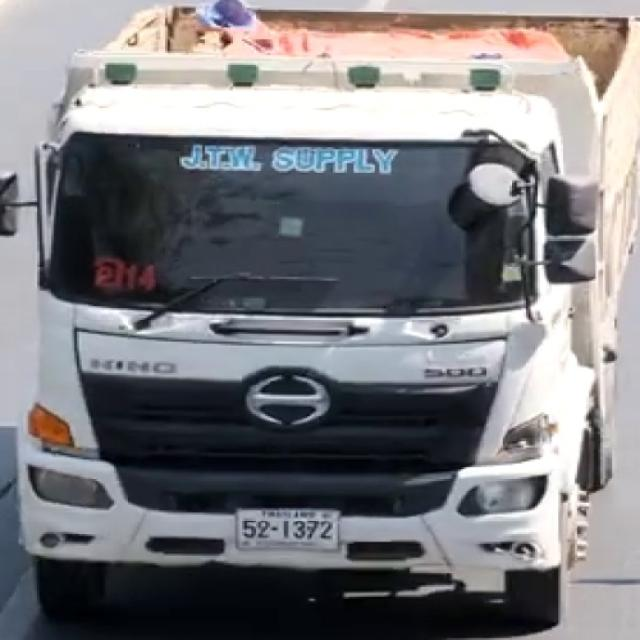plate: (234, 506, 341, 554)
